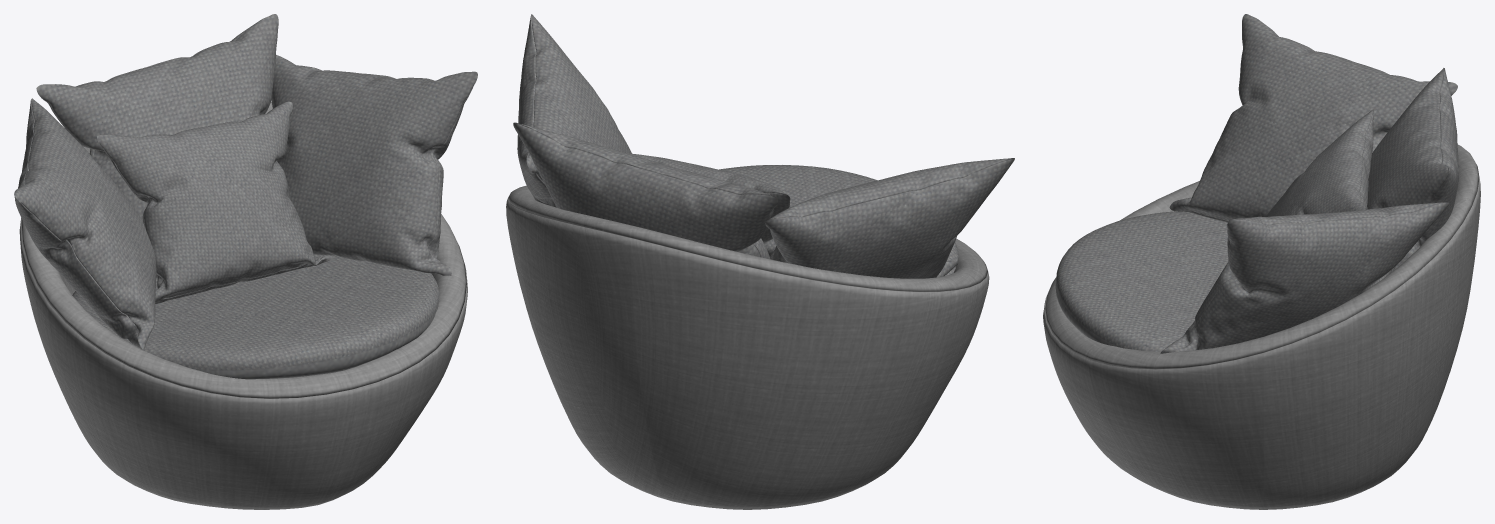
Rendered from sofa_01.glb.
3 views of the same model, side by side, from view 1: azimuth 30°, elevation 25°; view 2: azimuth 150°, elevation 25°; view 3: azimuth 270°, elevation 25° (orthographic). The views are drawn at different scales.
Visible parts, largest first — view 1: Round Fabric Sofa with Pillows.001; view 2: Round Fabric Sofa with Pillows.001; view 3: Round Fabric Sofa with Pillows.001.
Boxes of the visible parts, bbox=[...] form: Round Fabric Sofa with Pillows.001: bbox=[14, 14, 477, 509]; Round Fabric Sofa with Pillows.001: bbox=[506, 14, 1014, 509]; Round Fabric Sofa with Pillows.001: bbox=[1043, 14, 1480, 509].
Bounding box in the file's own units: 1.35 × 1 × 1.12.
1 material, 1 textured.
